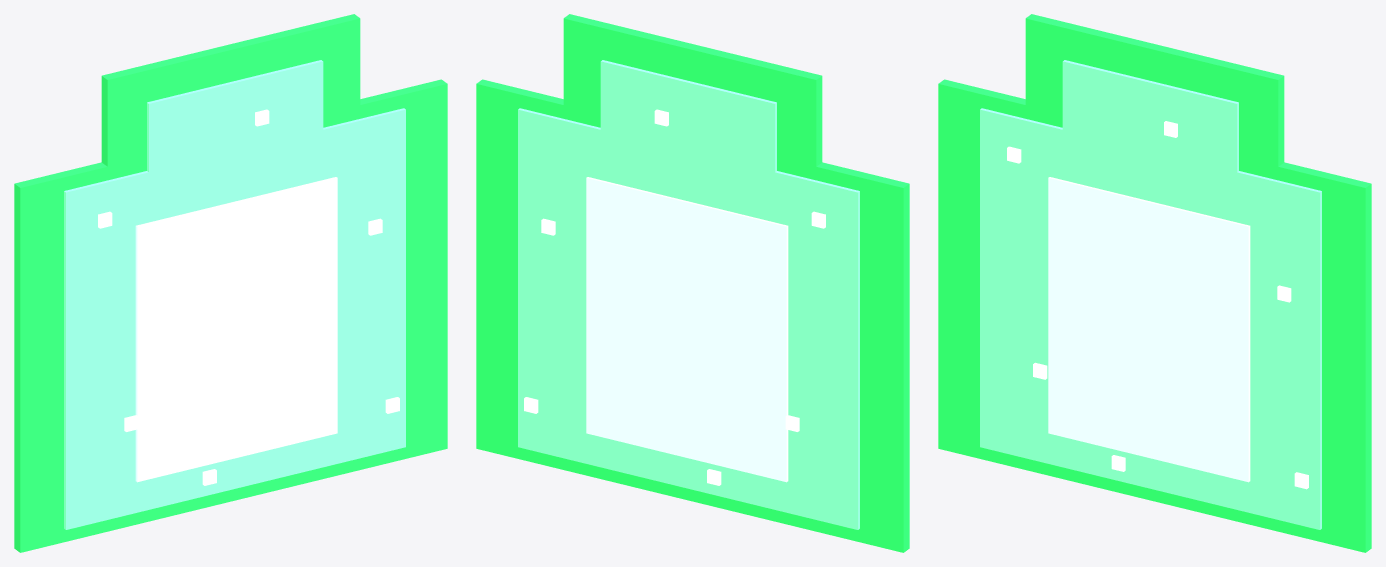
File: th-portal-green.glb
3 renders of one model, left to right at view 1: azimuth 30°, elevation 25°; view 2: azimuth 150°, elevation 25°; view 3: azimuth 330°, elevation 25°, orthographic.
Parts seen in each view (by area): view 1: box-prop; view 2: box-prop; view 3: box-prop.
Part boxes in pixels (x1=…): box-prop: x1=14, y1=14, x2=447, y2=552; box-prop: x1=476, y1=14, x2=909, y2=552; box-prop: x1=938, y1=14, x2=1371, y2=552.
Bounding box in the file's own units: 4.9 × 4.95 × 0.34.
